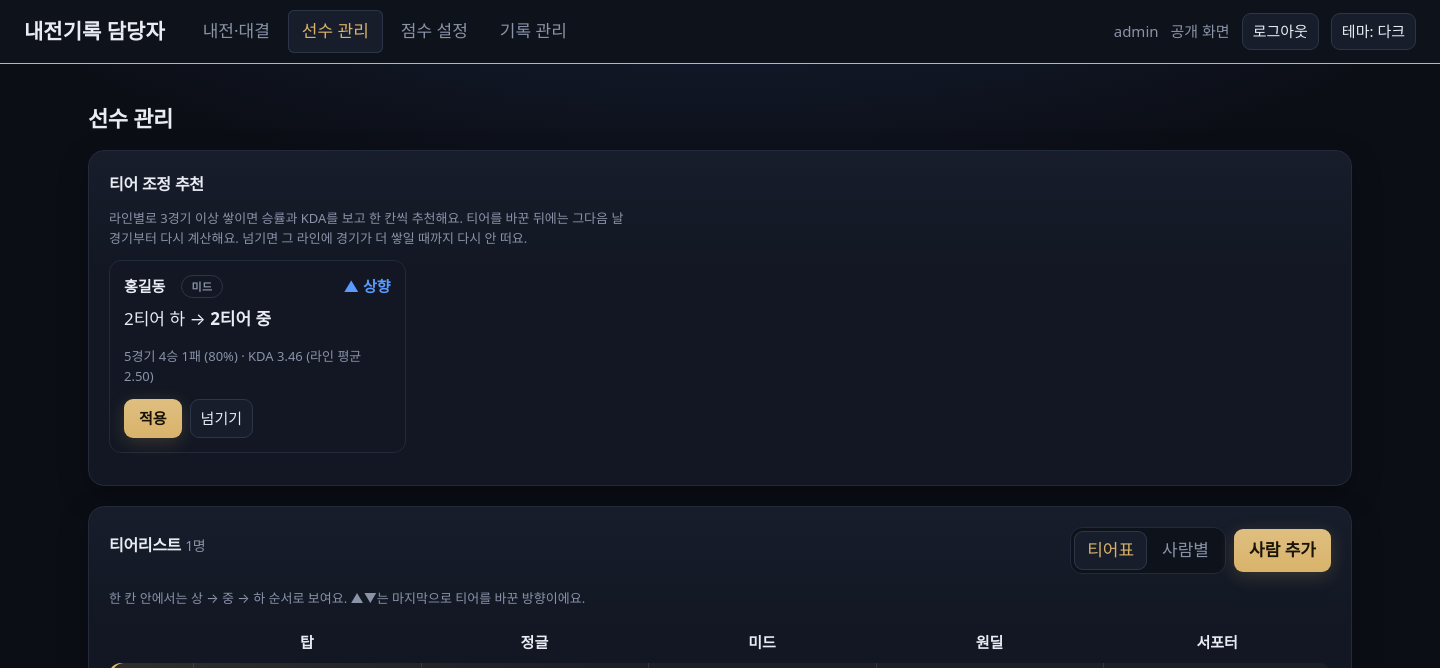
it: TierRecommendations 안전장치 › 추천을 받은 뒤 티어가 이미 바뀌었으면 PUT하지 않고 안내한다
Click the button with aria-label "홍길동 미드 적용" at (153, 419), box x1=124 y1=399 x2=182 y2=438
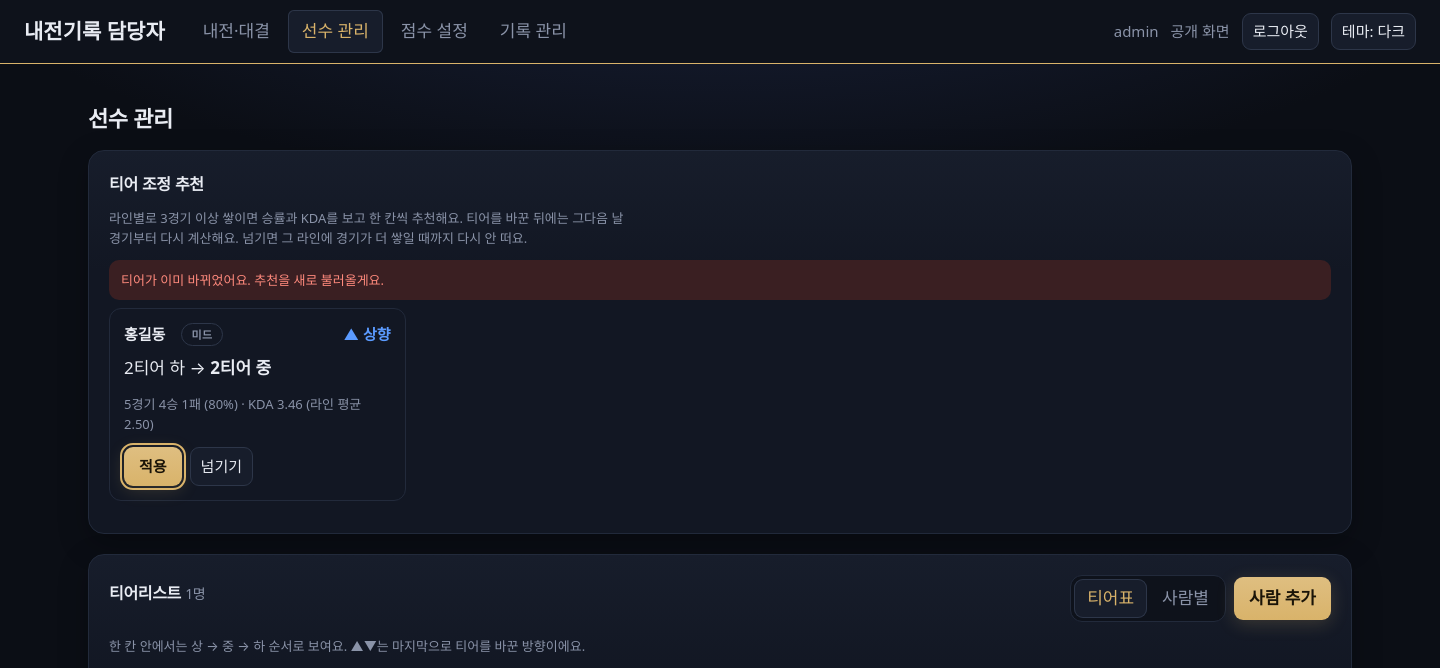
Check: the text "티어가 이미 바뀌었어요. 추천을 새로 불러올게요." is shown, box x1=109 y1=260 x2=1331 y2=300
